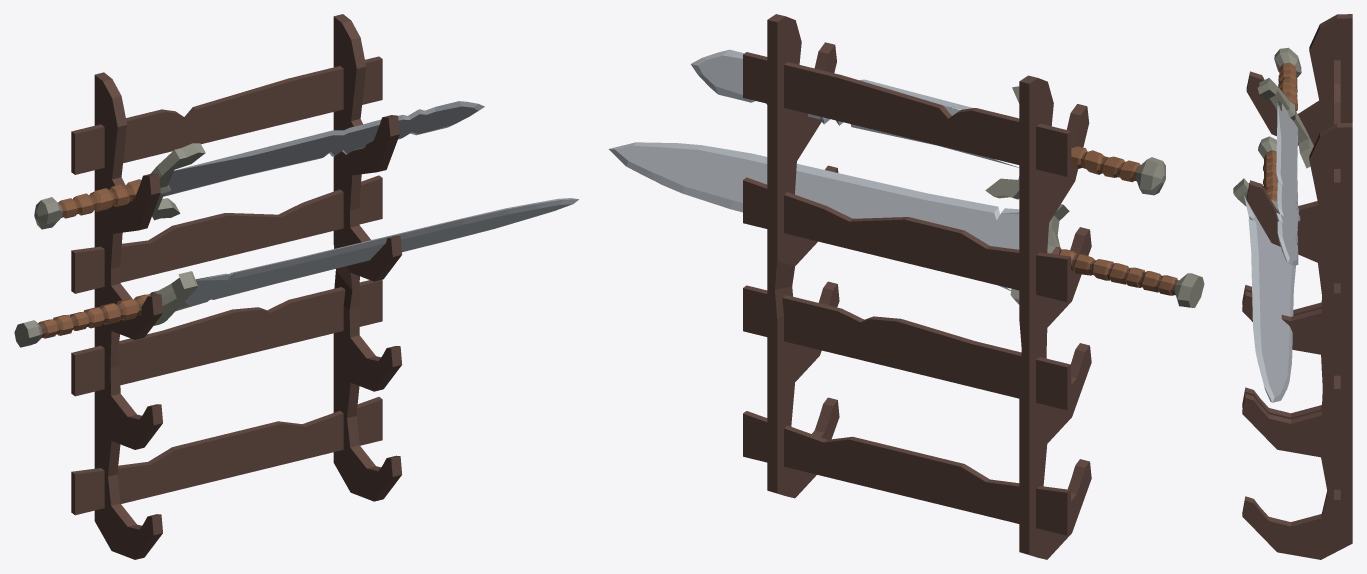
File: sword_wallmount.glb
3 renders of one model, left to right at view 1: azimuth 30°, elevation 25°; view 2: azimuth 150°, elevation 25°; view 3: azimuth 270°, elevation 25°, orthographic. The views are drawn at different scales.
Parts seen in each view (by area): view 1: Sword_WallMount, Sword_big, Sword; view 2: Sword_WallMount, Sword_big, Sword; view 3: Sword_WallMount, Sword_big, Sword.
Boxes of the visible parts, left/top/right/bottom form: Sword_WallMount: left=71, top=14, right=402, bottom=559; Sword_big: left=14, top=198, right=578, bottom=347; Sword: left=34, top=101, right=484, bottom=229; Sword_WallMount: left=743, top=14, right=1091, bottom=559; Sword_big: left=609, top=142, right=1204, bottom=307; Sword: left=691, top=49, right=1165, bottom=199; Sword_WallMount: left=1242, top=14, right=1352, bottom=559; Sword_big: left=1233, top=136, right=1295, bottom=402; Sword: left=1257, top=47, right=1313, bottom=265.
Size of the model in its own units: 1.07 by 0.8471 by 0.2117.
